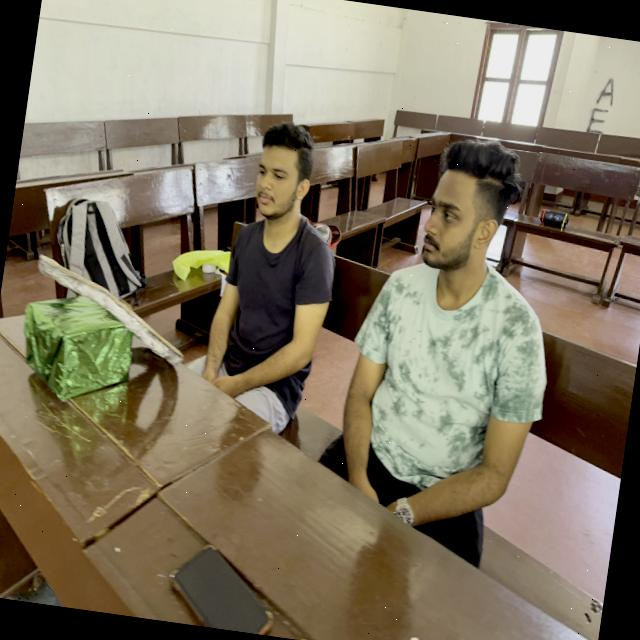Helmet: (336, 251, 560, 564), (205, 212, 342, 422)
